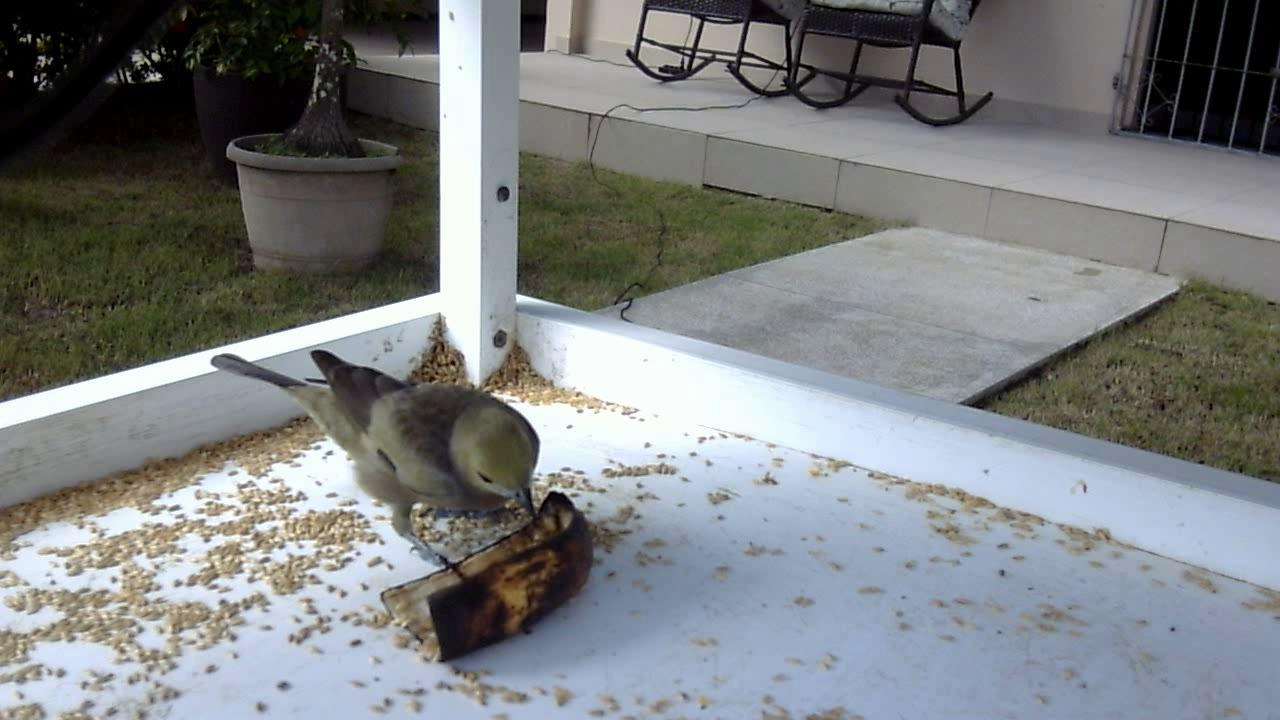sanhaco_do_coqueiro: (208, 341, 551, 584)
